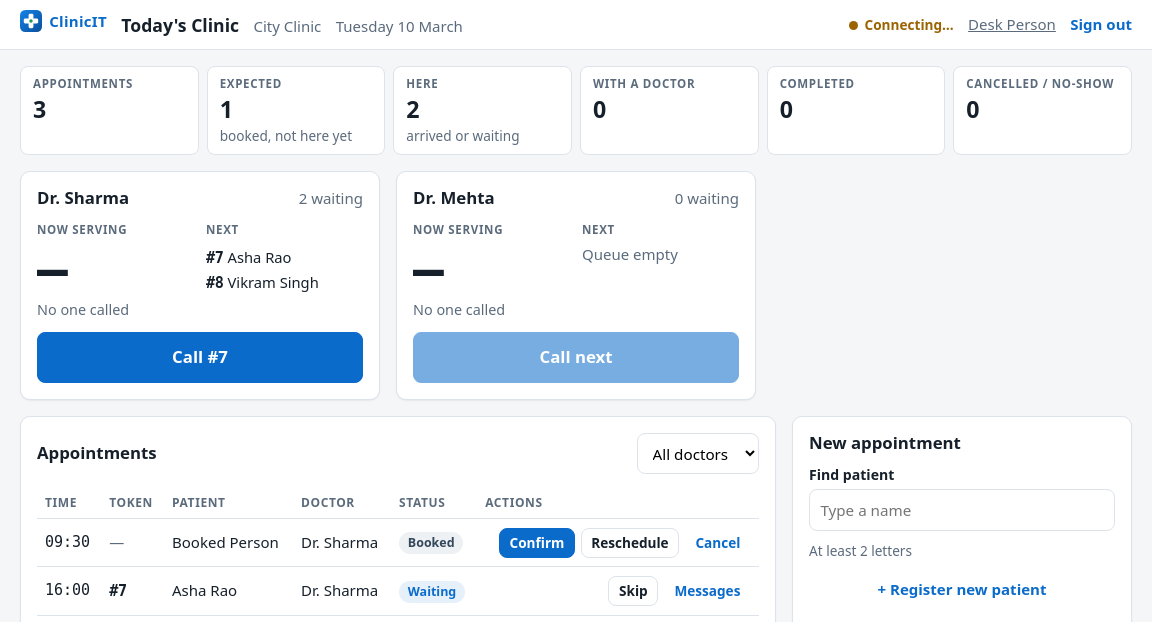
Test: ReceptionConsole › shows the backend's reason when an action is refused
Expected: the text "Today's Clinic" is shown, [121,13,239,39]
Click the button "Call #7". click: (200, 358)
box: [37,332,363,383]
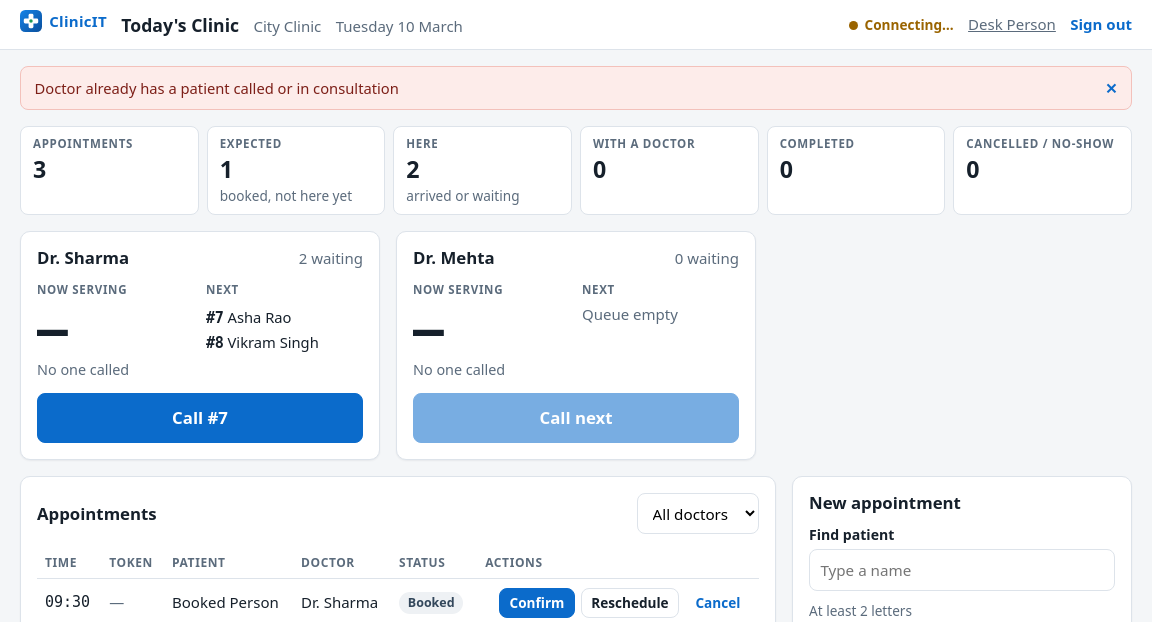
Result: the message "Doctor already has a patient called or in consultation ✕" is shown at [20,66,1132,110]
